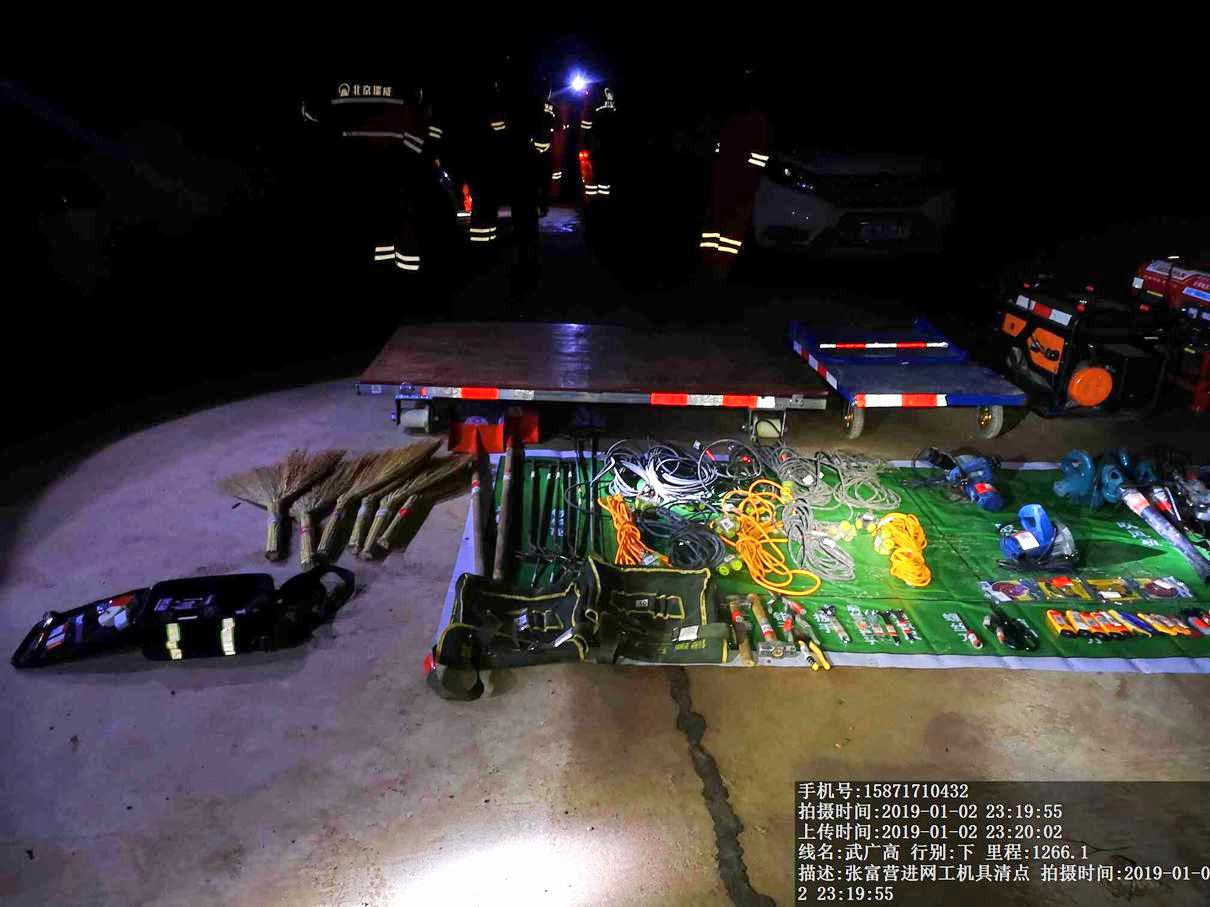DJ: (1000, 275, 1172, 411)
DX: (776, 496, 864, 581), (717, 493, 782, 577), (876, 510, 944, 588), (594, 494, 663, 569), (593, 427, 654, 495)
DZ: (912, 438, 1019, 513)
GFJ: (1055, 441, 1210, 577)
GJB: (19, 571, 345, 674), (437, 568, 591, 672), (592, 564, 732, 672)
SB: (206, 448, 351, 558)
TC: (784, 294, 1017, 439)
TQ: (445, 403, 504, 567), (495, 408, 540, 569)
